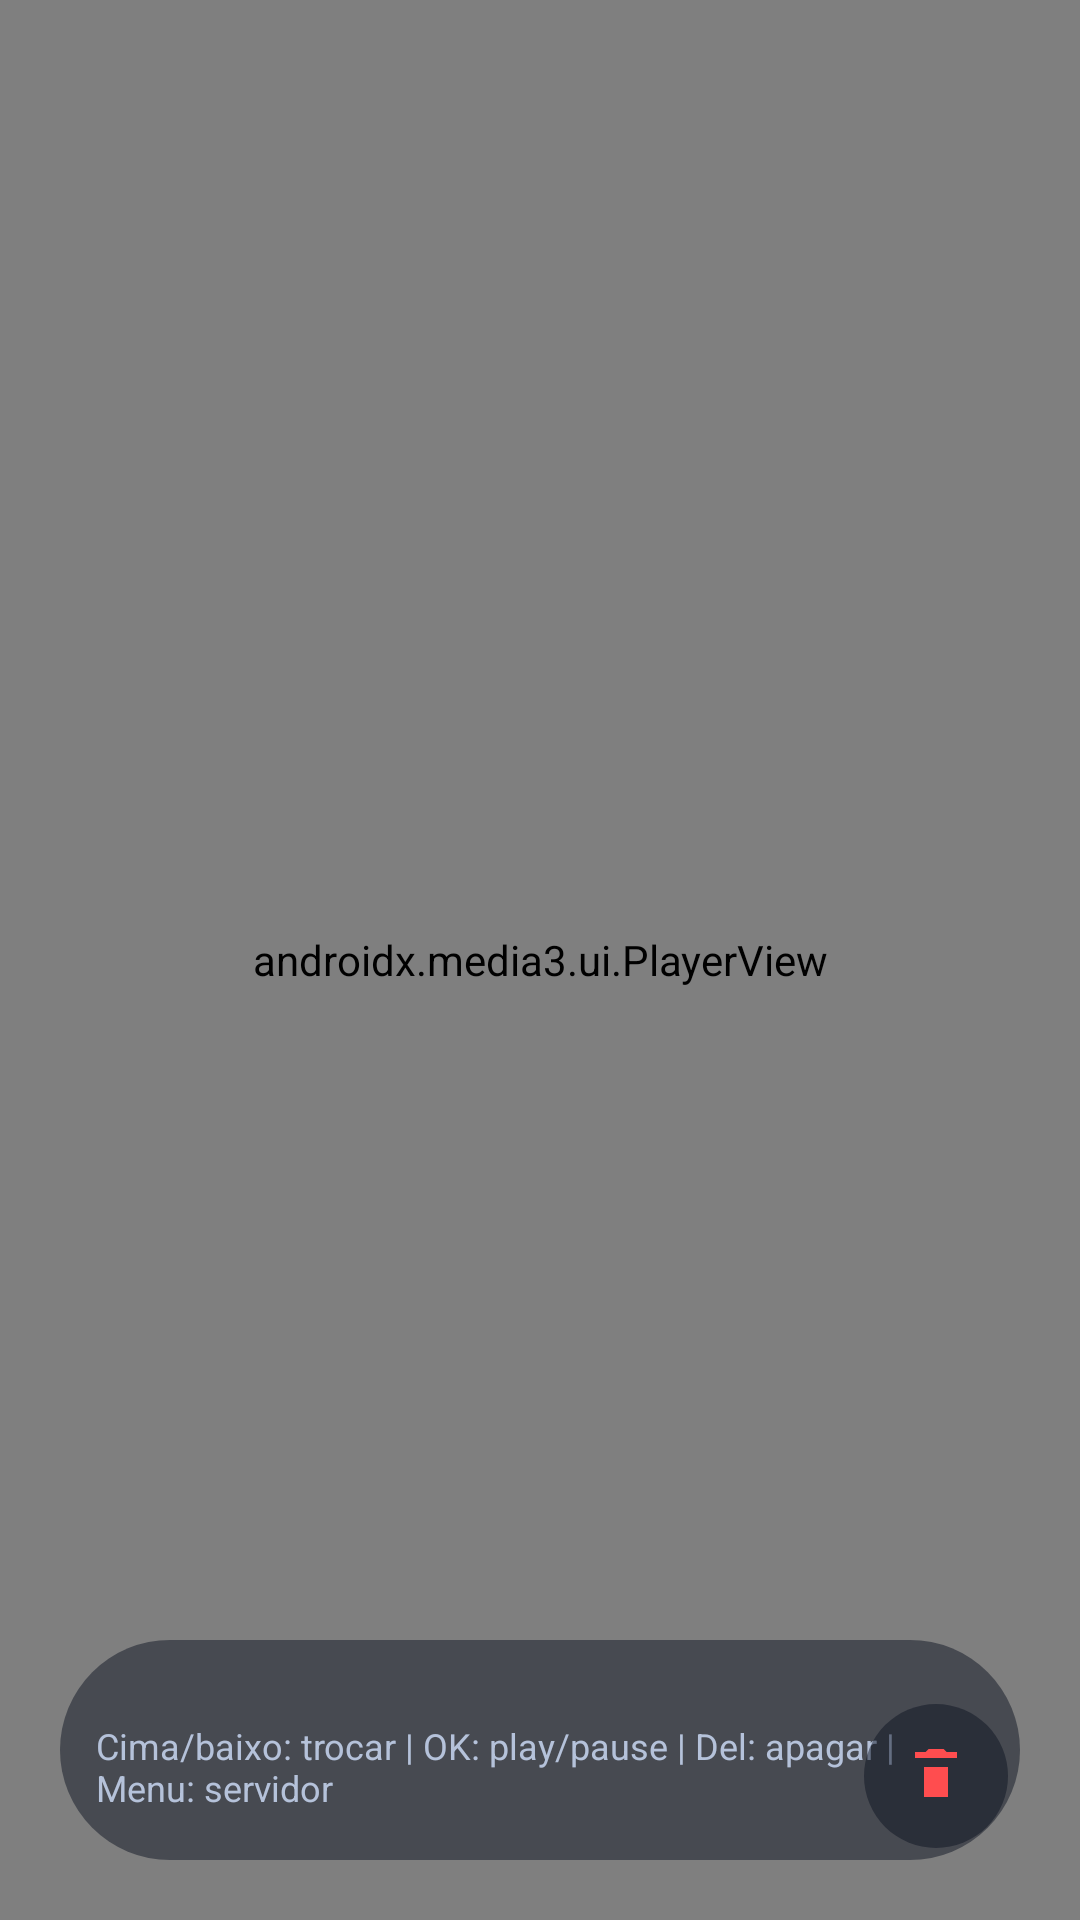

Point at icon controls on the screen. Image size 1080 x 1920, points as (x=x, y=y).
Remover video permanentemente: (x=936, y=1776)
